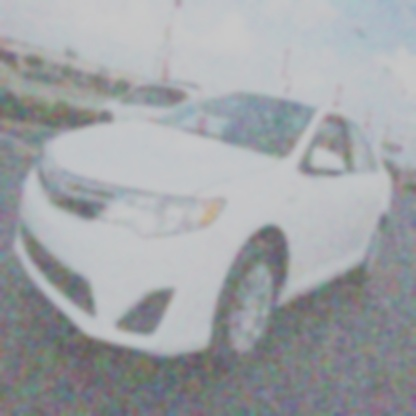Vehicle: (13, 89, 395, 369)
